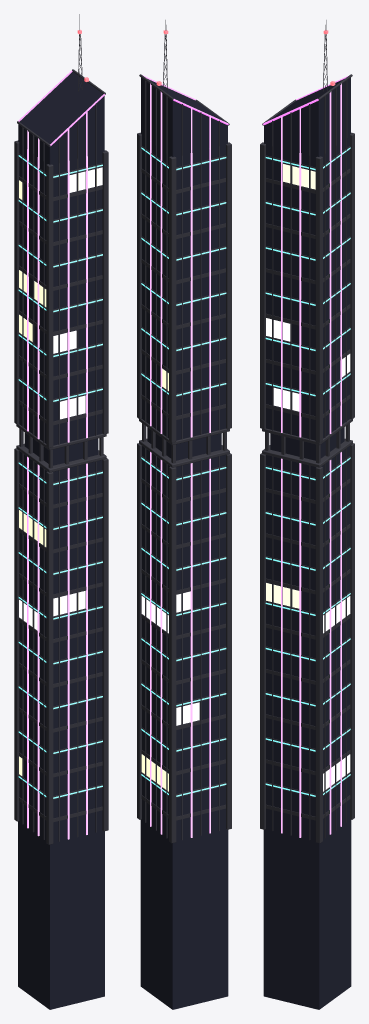
File: tower_c.glb
The picture shows the model from 3 angles, left to right: view 1: azimuth 30°, elevation 25°; view 2: azimuth 210°, elevation 25°; view 3: azimuth 330°, elevation 25°; orthographic projection.
Visible parts, largest first — view 1: tower_c; view 2: tower_c; view 3: tower_c.
Part boxes in pixels (x1=…): tower_c: x1=14, y1=14, x2=108, y2=1009; tower_c: x1=137, y1=20, x2=231, y2=1009; tower_c: x1=260, y1=20, x2=354, y2=1009.
Bounding box in the file's own units: 9.8 × 152 × 9.8.
